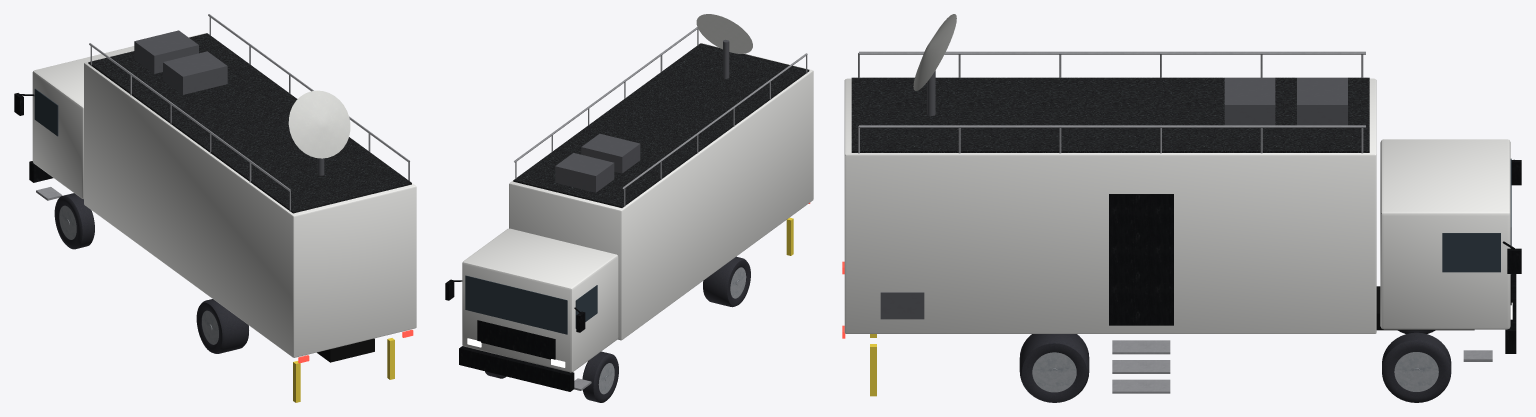
The model's file is ob_van_white.gltf.
3 views of the same model, side by side, from view 1: azimuth 30°, elevation 25°; view 2: azimuth 150°, elevation 25°; view 3: azimuth 270°, elevation 25° (orthographic). The views are drawn at different scales.
Visible parts, largest first — view 1: ob_van_white; view 2: ob_van_white; view 3: ob_van_white.
Part boxes in pixels (x1,y1,x2,y2): ob_van_white: (14,14,416,402); ob_van_white: (445,14,813,402); ob_van_white: (842,14,1521,402).
Bounding box in the file's own units: 3.16 × 5.29 × 9.38.
15 materials, 9 textured.
